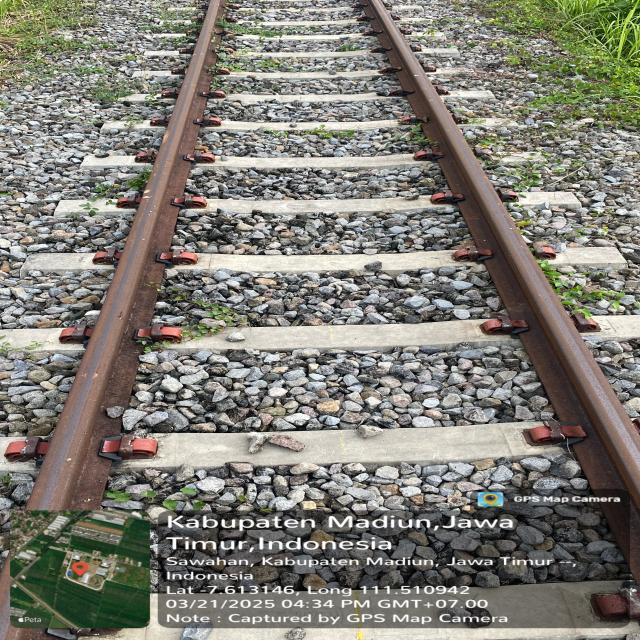rail-detection: (360, 0, 640, 584), (29, 0, 225, 510), (0, 59, 42, 164), (100, 70, 143, 106)
